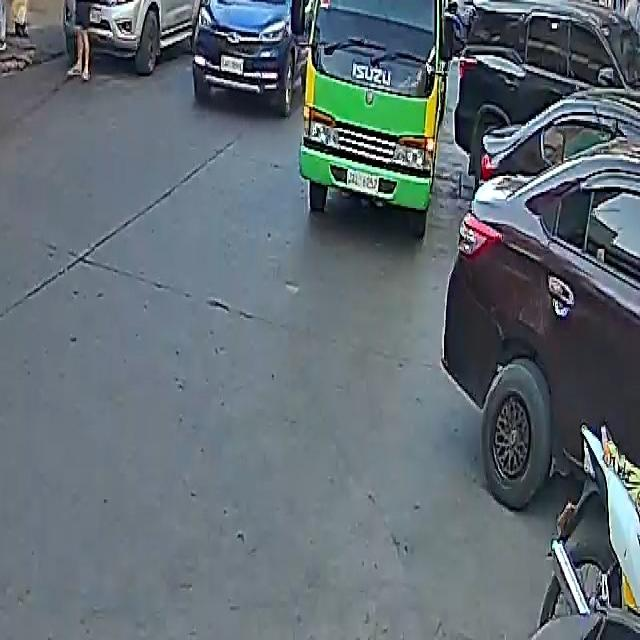car: (442, 44, 640, 534), (449, 0, 639, 185), (191, 0, 309, 112), (66, 0, 208, 76)
